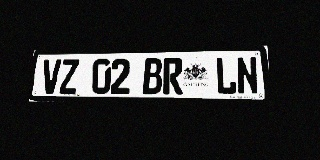0: (91, 59, 111, 94)
2: (110, 58, 130, 94)
B: (143, 58, 162, 94)
L: (215, 57, 237, 95)
N: (236, 57, 259, 95)
R: (163, 58, 183, 95)
V: (41, 59, 61, 94)
Z: (59, 59, 79, 94)
